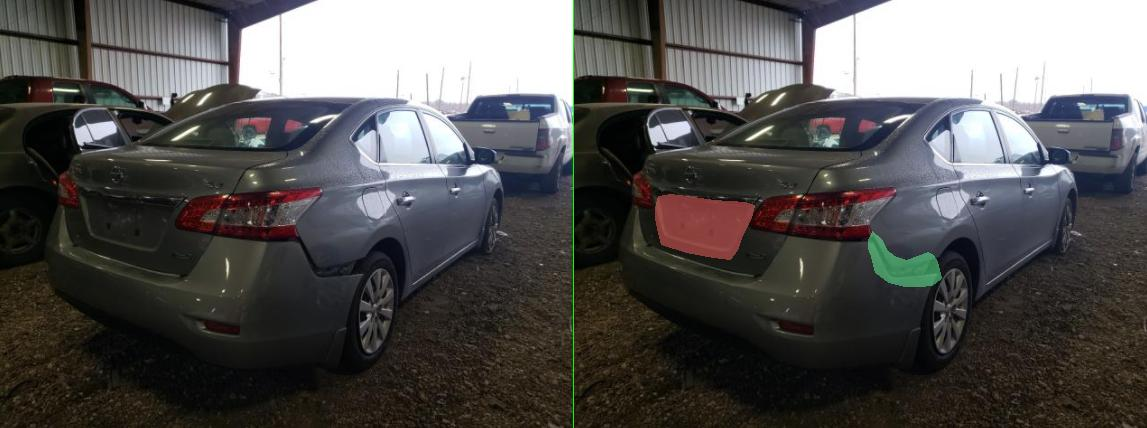Broken part: (589, 231, 735, 286)
Missing part: (162, 194, 360, 259)
